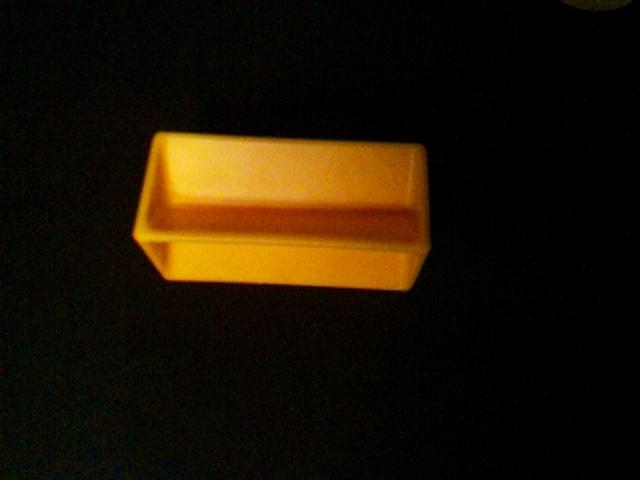yellow: (131, 129, 433, 294)
